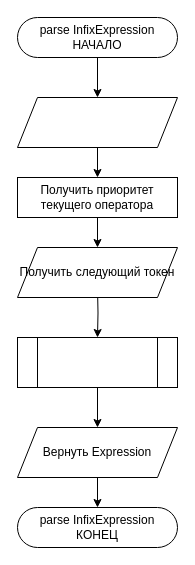
Some shapes in this 195 by 565 pixel diagram are drawn without their labels. Here are the shapes that lost their labels. From the top down, the centre of each, then its label:
At point (97, 122): "Получить левый операнд".
At point (97, 362): "parseExpression(приоритет текущего оператора)".
